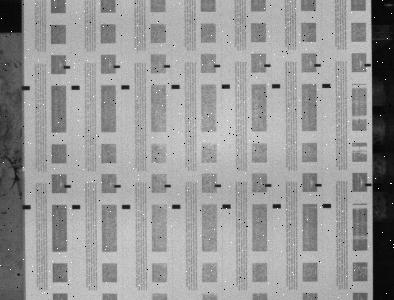backgroundclutter: (17, 273, 21, 276)
qblock: (172, 204, 181, 209), (322, 203, 331, 208), (171, 84, 180, 89), (71, 85, 80, 90), (322, 83, 331, 88), (122, 204, 130, 209), (22, 205, 31, 209), (222, 204, 231, 208), (72, 205, 80, 209), (273, 204, 281, 208), (22, 86, 30, 90), (121, 85, 129, 89), (222, 84, 230, 88), (272, 84, 280, 88)
smallqblock: (114, 184, 121, 188), (364, 63, 371, 67), (63, 65, 70, 69), (315, 183, 322, 186), (365, 183, 372, 186), (265, 184, 272, 187), (215, 184, 222, 187), (64, 185, 71, 188), (164, 184, 171, 187), (264, 64, 271, 67), (314, 64, 321, 67), (214, 64, 221, 67), (163, 65, 170, 68), (114, 65, 120, 68)
